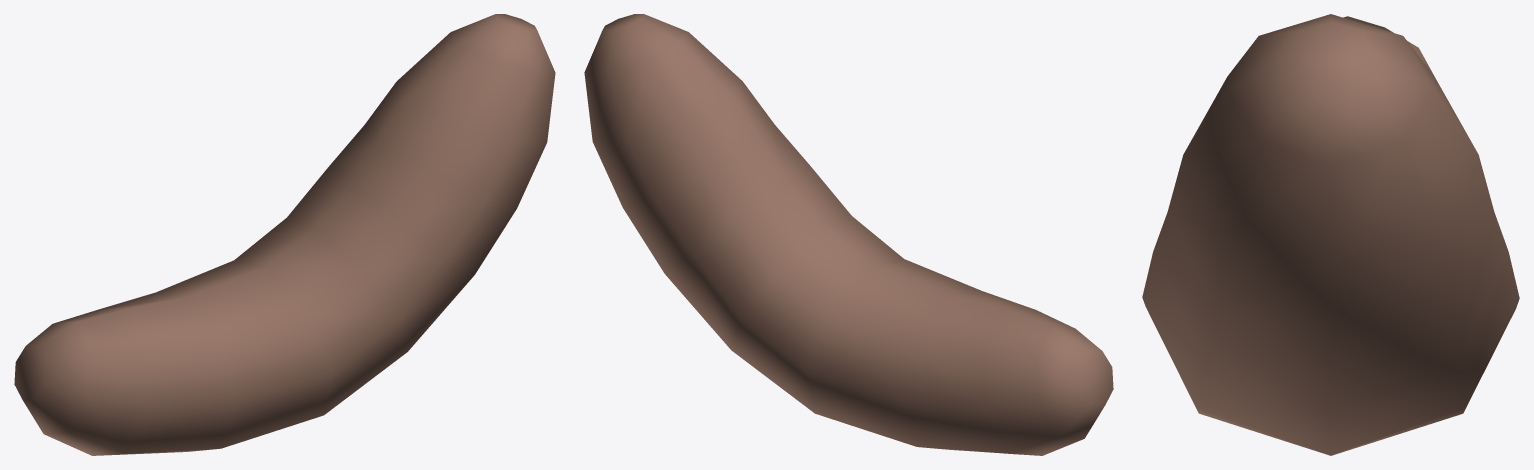
File: sausages_oneprop.fbx
3 renders of one model, left to right at view 1: azimuth 30°, elevation 25°; view 2: azimuth 150°, elevation 25°; view 3: azimuth 270°, elevation 25°, orthographic. The views are drawn at different scales.
Visible parts, largest first — view 1: sausages_one1; view 2: sausages_one1; view 3: sausages_one1.
Boxes of the visible parts, bbox=[...] form: sausages_one1: bbox=[14, 14, 555, 455]; sausages_one1: bbox=[584, 14, 1113, 455]; sausages_one1: bbox=[1142, 14, 1519, 455].
Bounding box in the file's own units: 73.24 × 47.92 × 25.28.
